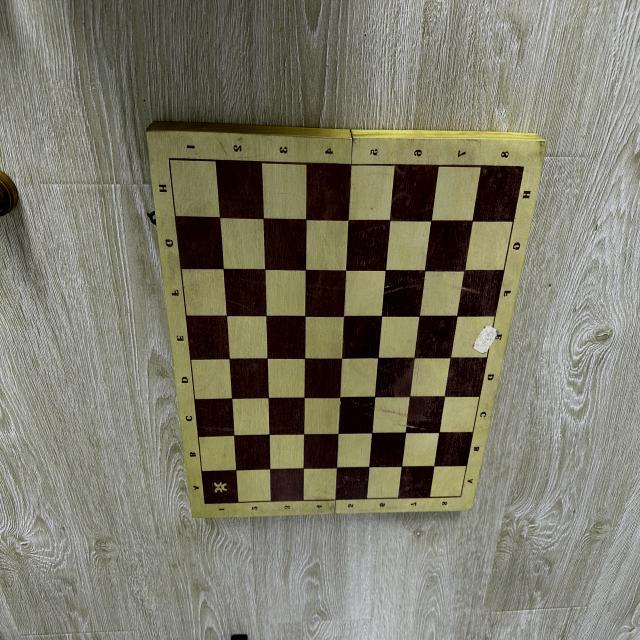chess-table-corners: (519, 162, 529, 174), (166, 155, 174, 164), (203, 499, 208, 508), (458, 494, 462, 500)
